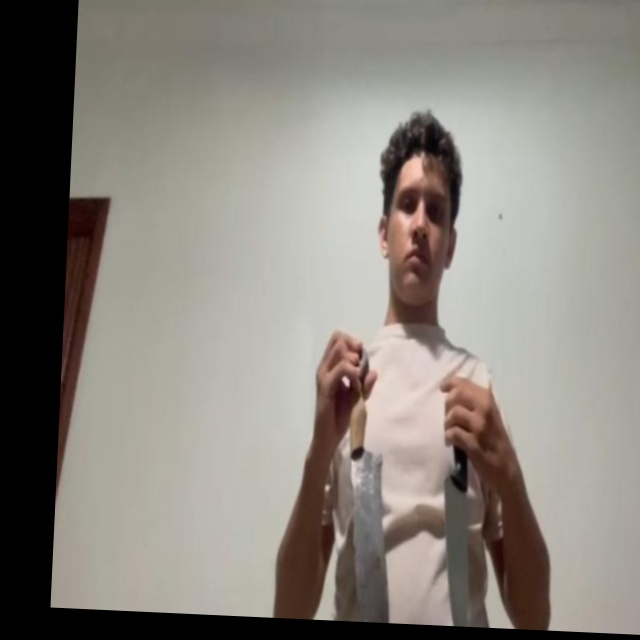Sharp-Object: (344, 450, 395, 623), (437, 476, 474, 627)
